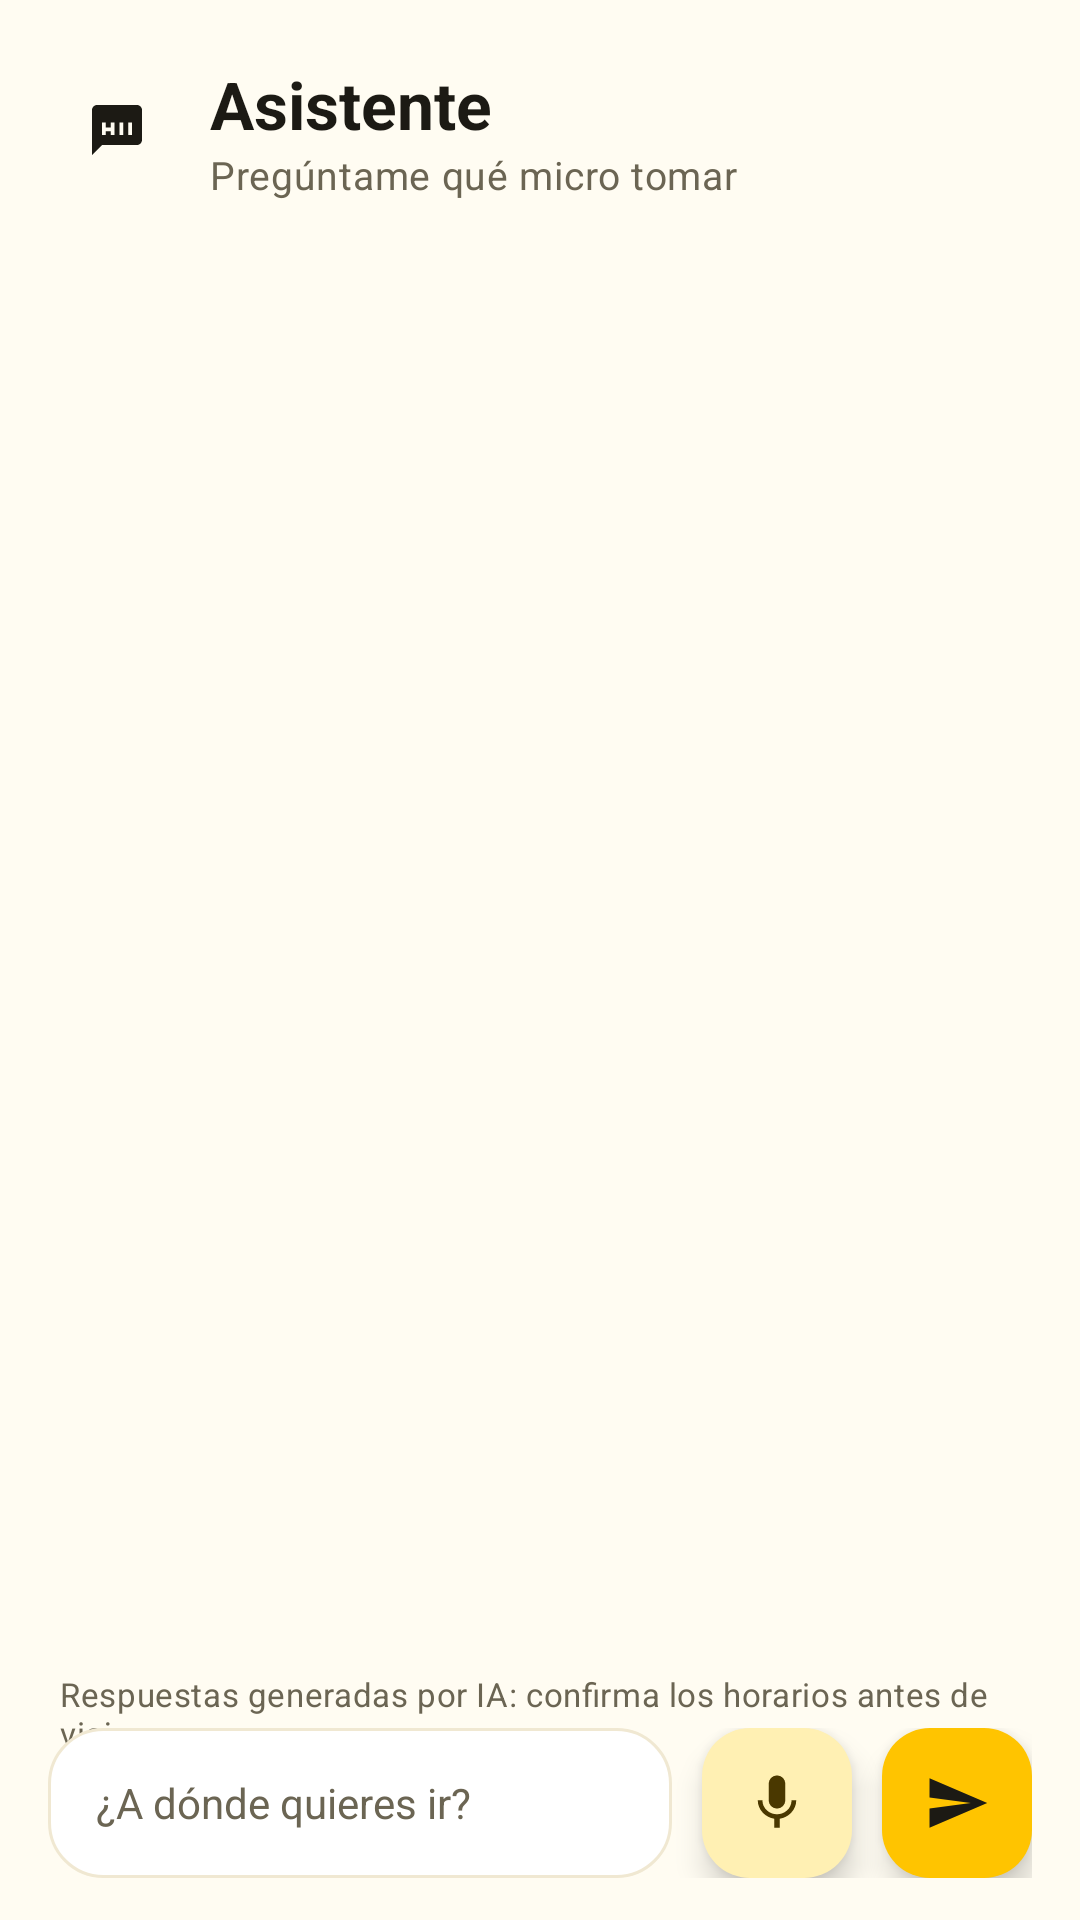

Icon bounding boxes for this 1080px×1920px phone screenshot, format (x1, y1, x2, y2):
assistant: (92, 105, 142, 155)
Enviar: (882, 1728, 1032, 1878)
Preguntar hablando: (702, 1728, 852, 1878)
